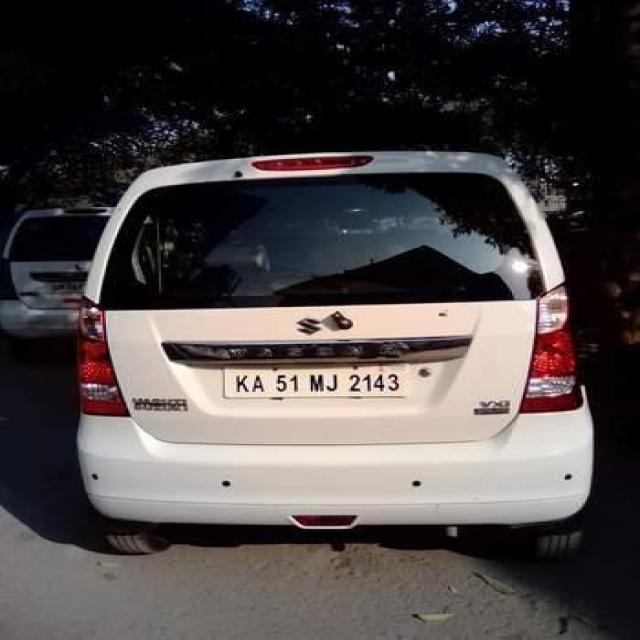Plate: (223, 365, 414, 394)
car: (79, 152, 596, 558)
